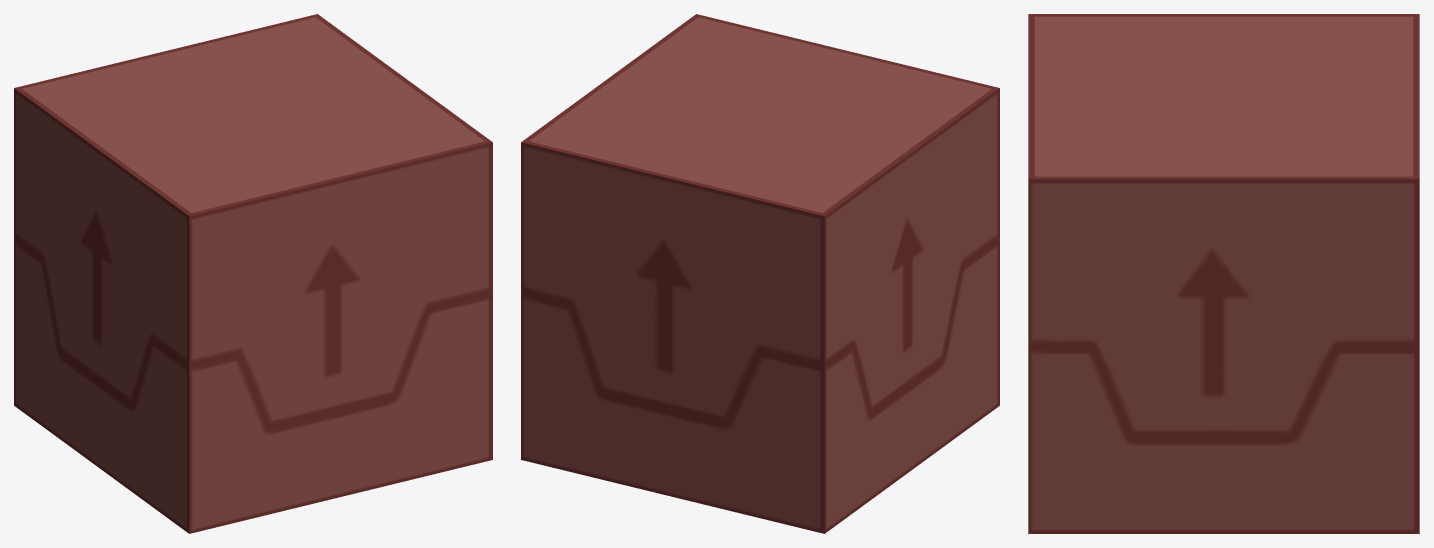
File: Box_Red.fbx
The picture shows the model from 3 angles, left to right: view 1: azimuth 30°, elevation 25°; view 2: azimuth 150°, elevation 25°; view 3: azimuth 270°, elevation 25°; orthographic projection. The views are drawn at different scales.
Parts seen in each view (by area): view 1: Cube.001; view 2: Cube.001; view 3: Cube.001.
Part boxes in pixels (x1,y1,x2,y2): Cube.001: (14,14,492,533); Cube.001: (521,14,999,533); Cube.001: (1028,14,1419,533).
Bounding box in the file's own units: 100 × 100 × 100.
